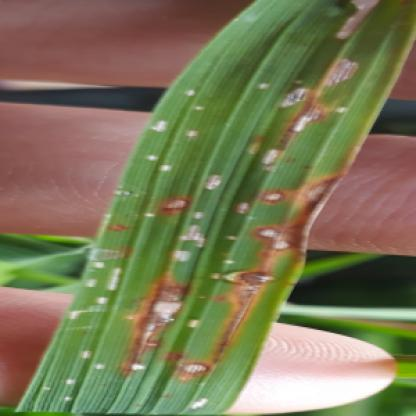Rice blast: (180, 256, 271, 391), (256, 156, 348, 266), (122, 265, 199, 369), (267, 85, 349, 150), (142, 181, 194, 238)
